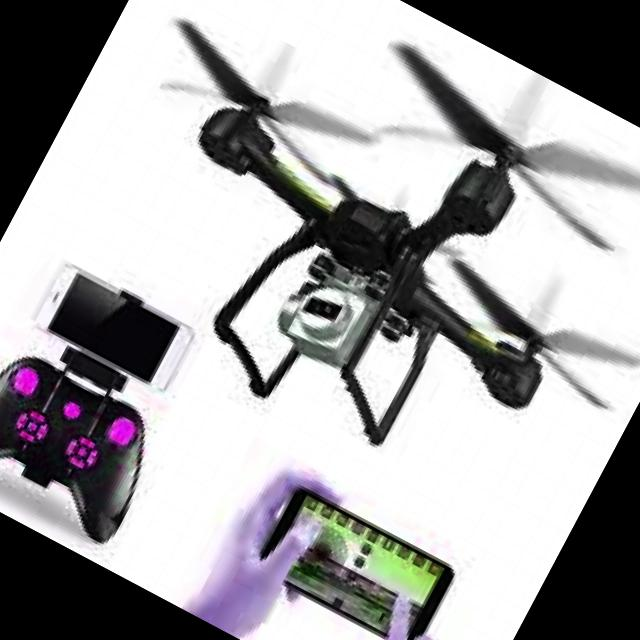drone: (28, 0, 640, 522)
